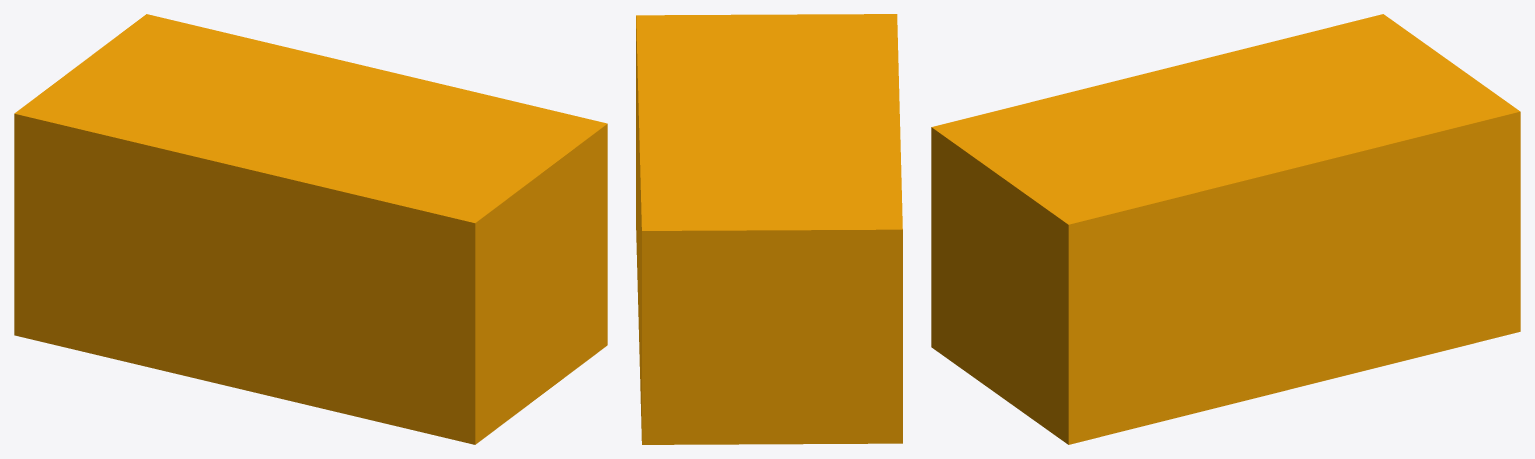
Rendered from DEHB01ALn0001Nxl.gltf.
The picture shows the model from 3 angles, left to right: view 1: azimuth 30°, elevation 25°; view 2: azimuth 150°, elevation 25°; view 3: azimuth 270°, elevation 25°; orthographic projection. The views are drawn at different scales.
Visible parts, largest first — view 1: Z_UP; view 2: Z_UP; view 3: Z_UP.
Part boxes in pixels (x1=…): Z_UP: x1=14, y1=14, x2=607, y2=444; Z_UP: x1=636, y1=14, x2=902, y2=444; Z_UP: x1=931, y1=14, x2=1520, y2=444.
Size of the model in its own units: 5.01 by 2.44 by 5.92.
